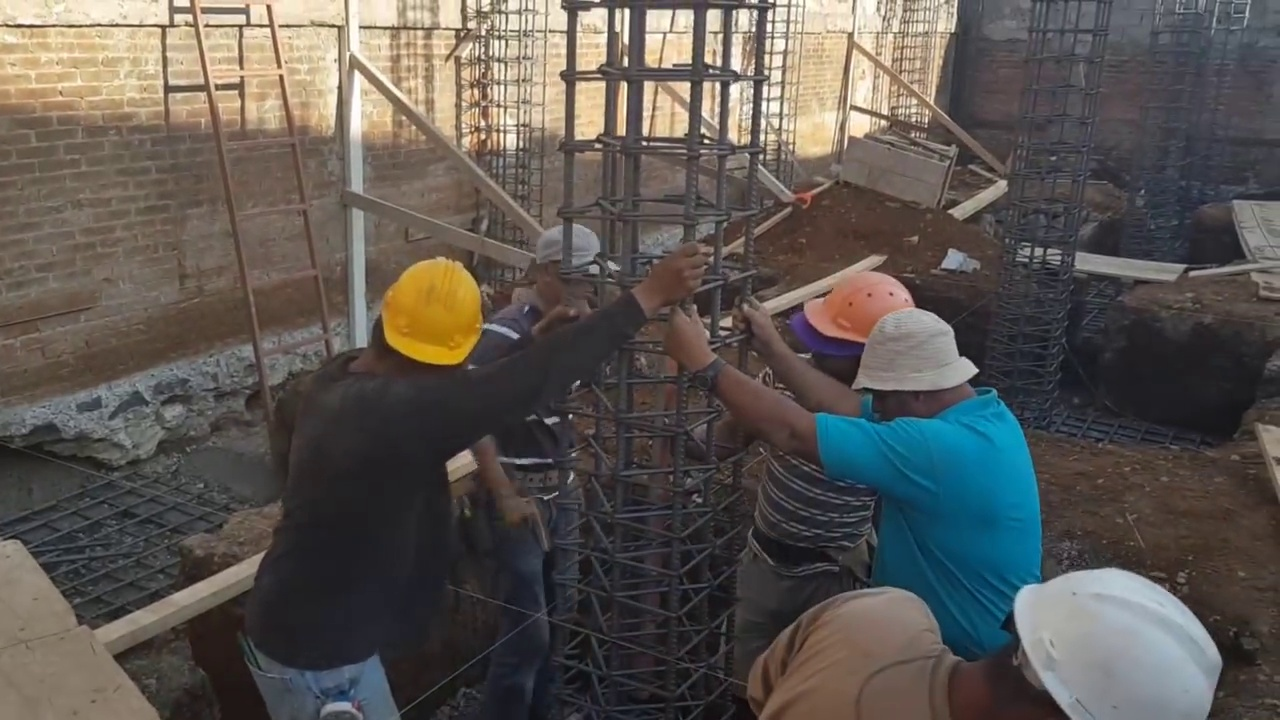helmet: (1029, 578, 1218, 720), (374, 260, 486, 369), (806, 271, 923, 364)
helmet-off: (850, 316, 984, 420), (521, 215, 601, 313)
helmet-on: (931, 573, 1221, 717), (344, 263, 484, 390), (791, 269, 921, 390)
person: (235, 222, 592, 720), (663, 257, 1036, 705), (702, 569, 1226, 720), (730, 264, 922, 667), (470, 215, 601, 720)
